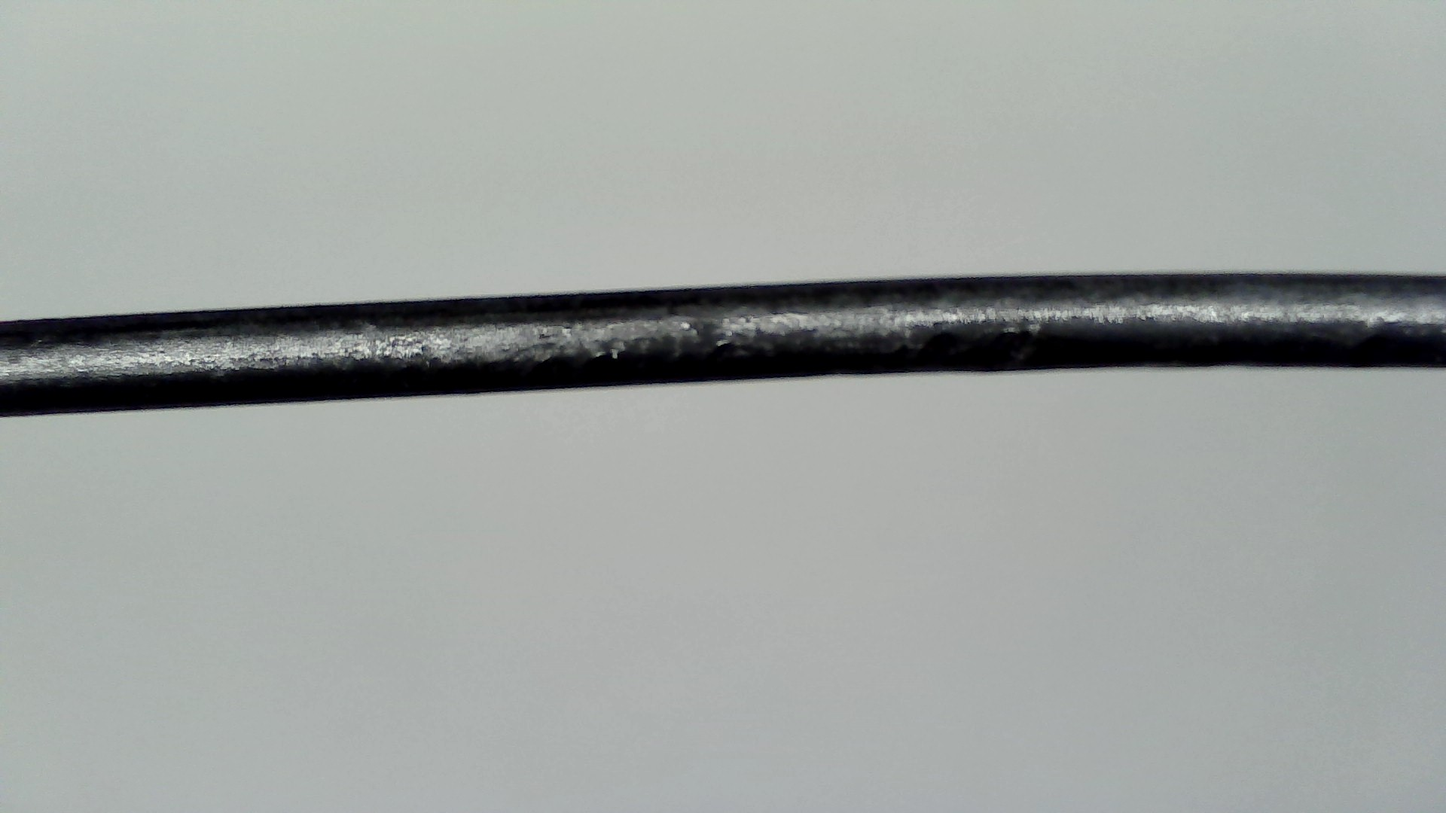defect: (892, 321, 1201, 370)
